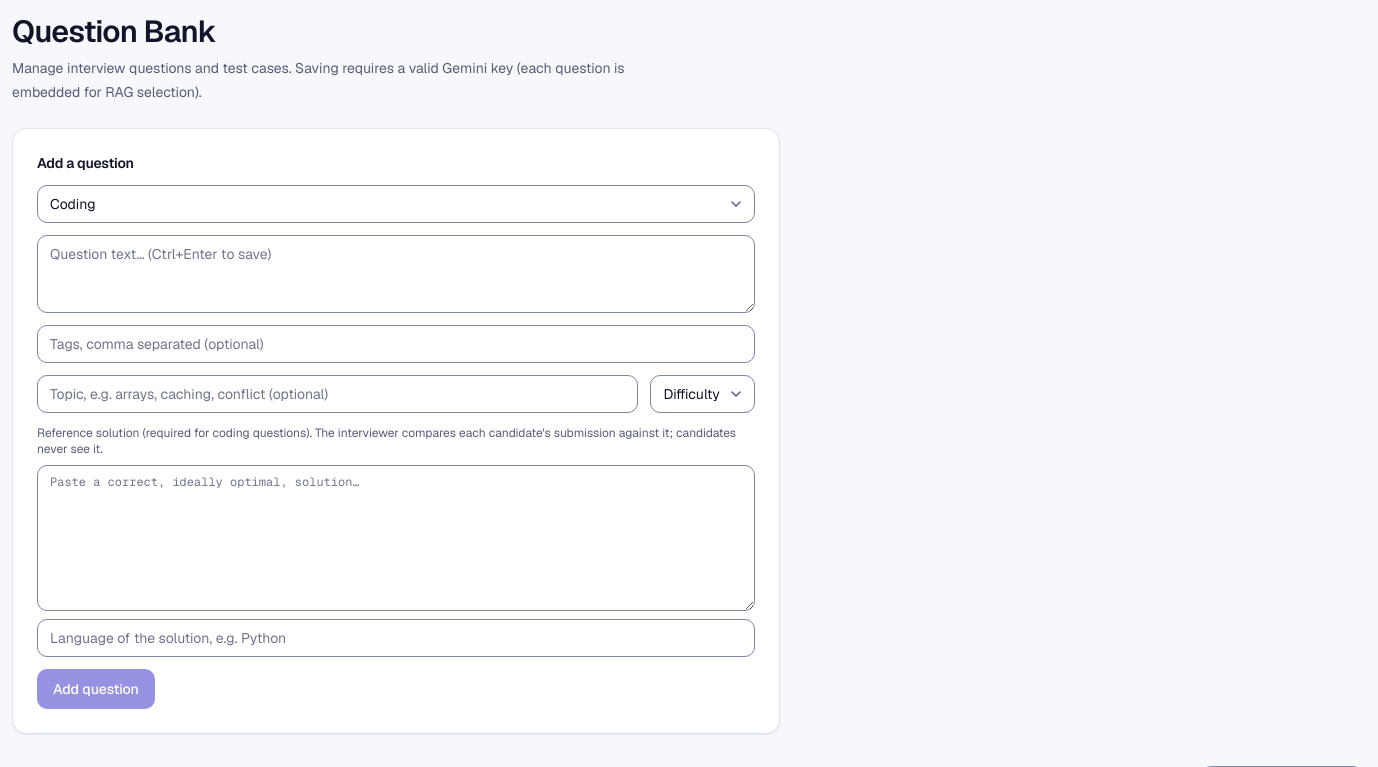
Scenario: QuestionBankView › requires a reference solution for coding questions
The width and height of the screenshot is (1378, 767).
Select "Coding" in the dropdown named "Question type". click: (396, 204)
box: x1=37 y1=185 x2=755 y2=223
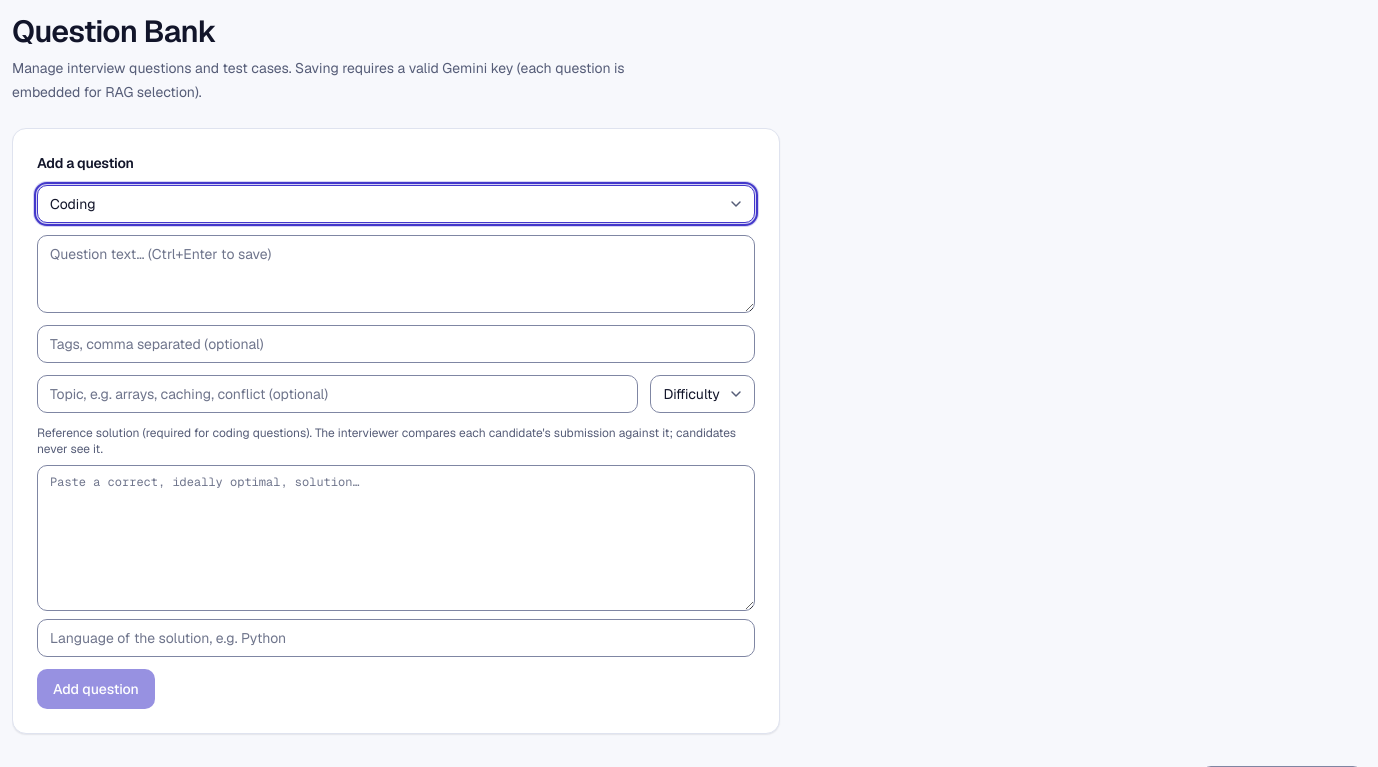
Type "Reverse a linked list" into the text box labelled "Question text". click: (396, 274)
box: x1=37 y1=235 x2=755 y2=313
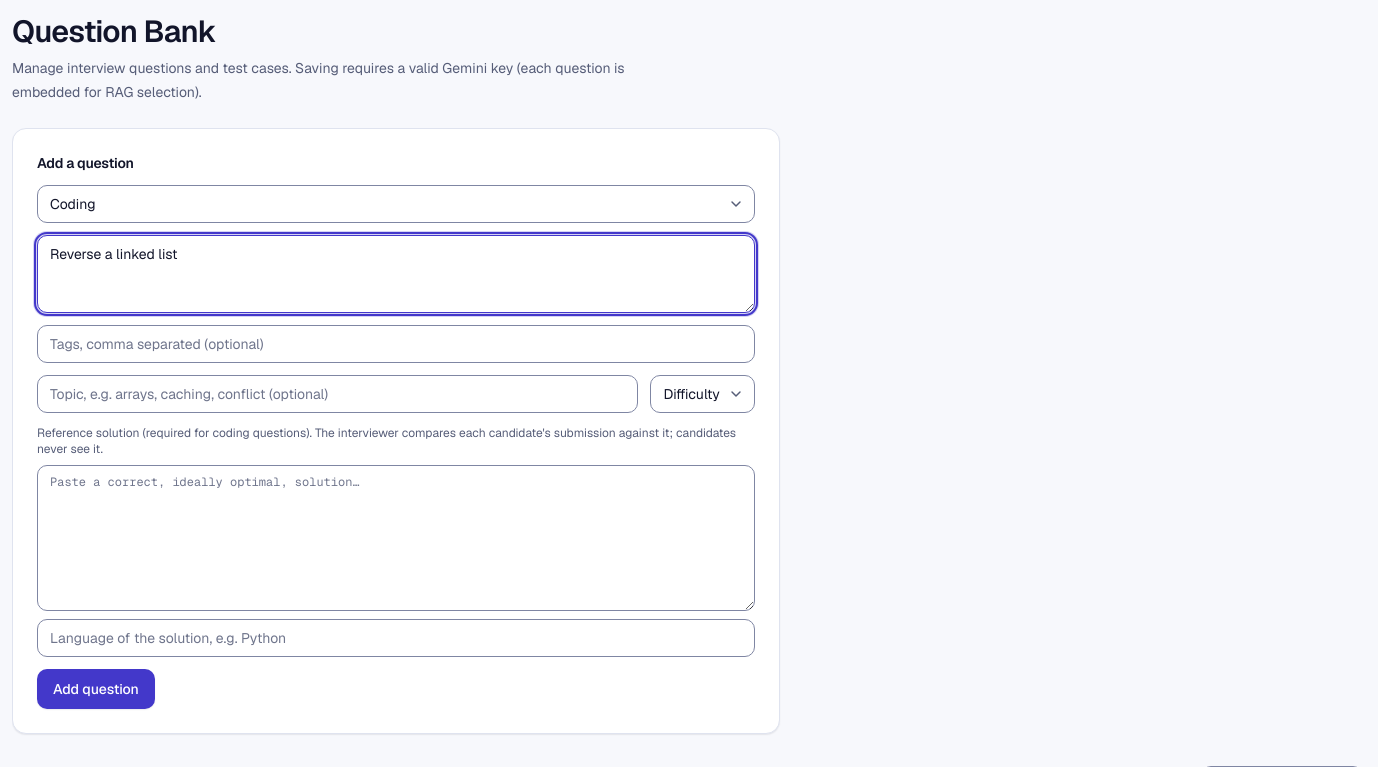
Click the button "Add question". click: (96, 689)
box: x1=37 y1=669 x2=155 y2=709
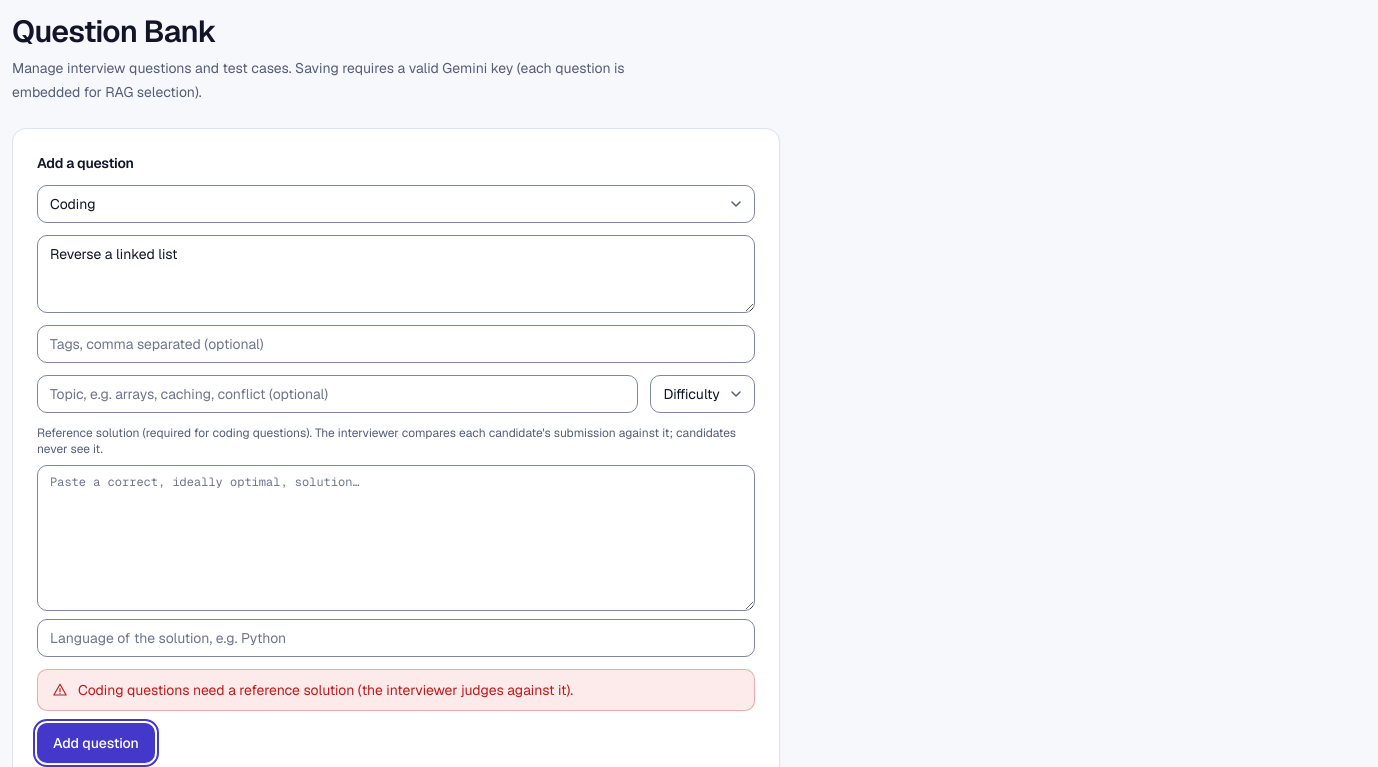
Now the message shows "reference solution", box x1=78 y1=681 x2=573 y2=699
